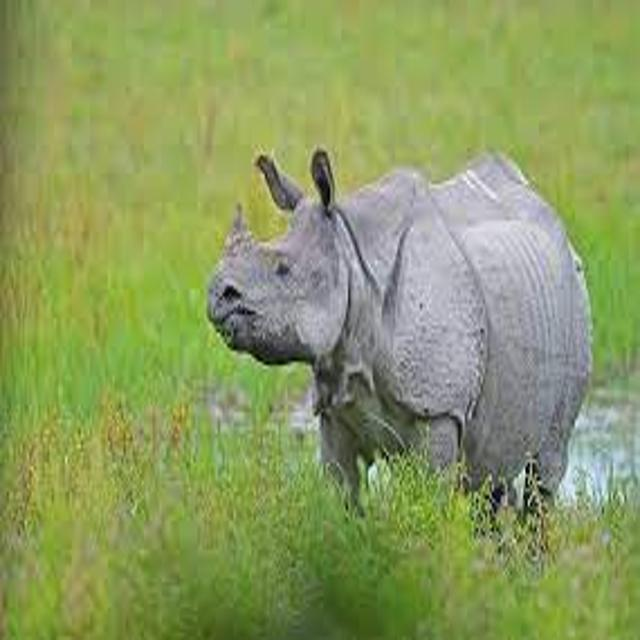rhino: (185, 113, 626, 592)
